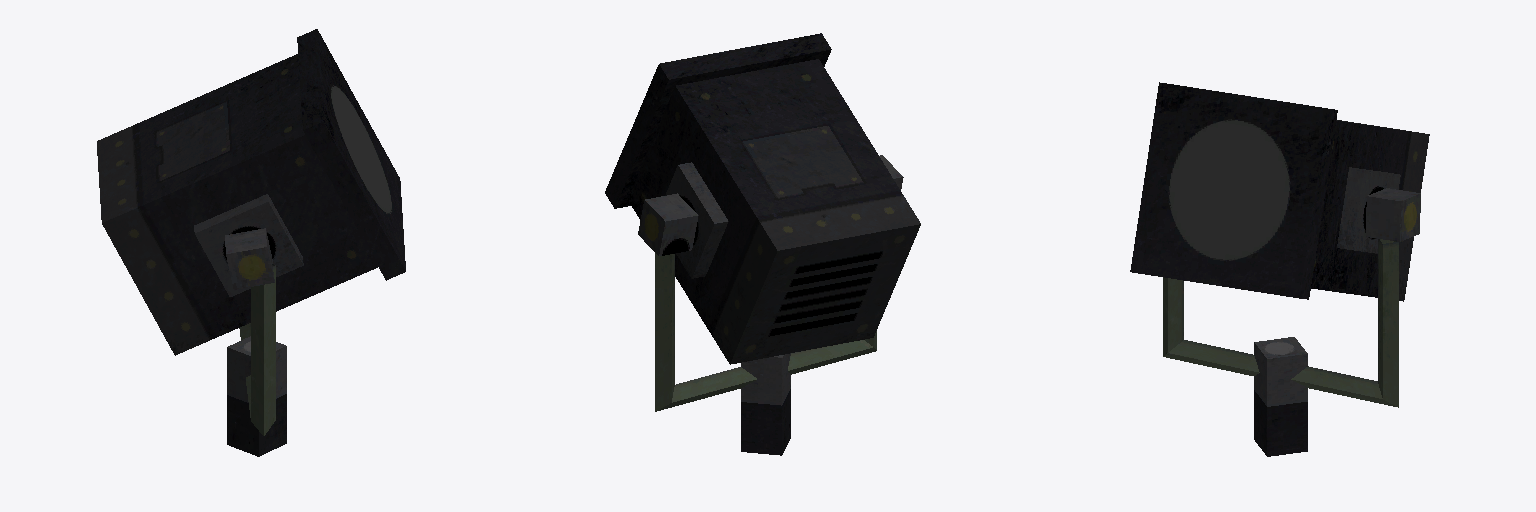
The picture shows the model from 3 angles: view 1: azimuth 30°, elevation 25°; view 2: azimuth 150°, elevation 25°; view 3: azimuth 270°, elevation 25°; orthographic projection.
Parts seen in each view (by area): view 1: polySurface[number redacted]__tc_spotlight_blue1; view 2: polySurface[number redacted]__tc_spotlight_blue1; view 3: polySurface[number redacted]__tc_spotlight_blue1.
Part boxes in pixels (x1,y1,x2,y2): polySurface[number redacted]__tc_spotlight_blue1: (97, 29, 405, 456); polySurface[number redacted]__tc_spotlight_blue1: (605, 33, 920, 455); polySurface[number redacted]__tc_spotlight_blue1: (1130, 82, 1429, 456).
Size of the model in its own units: 0.4659 by 0.5471 by 0.3929.
Materials: 1 (1 with a texture image).